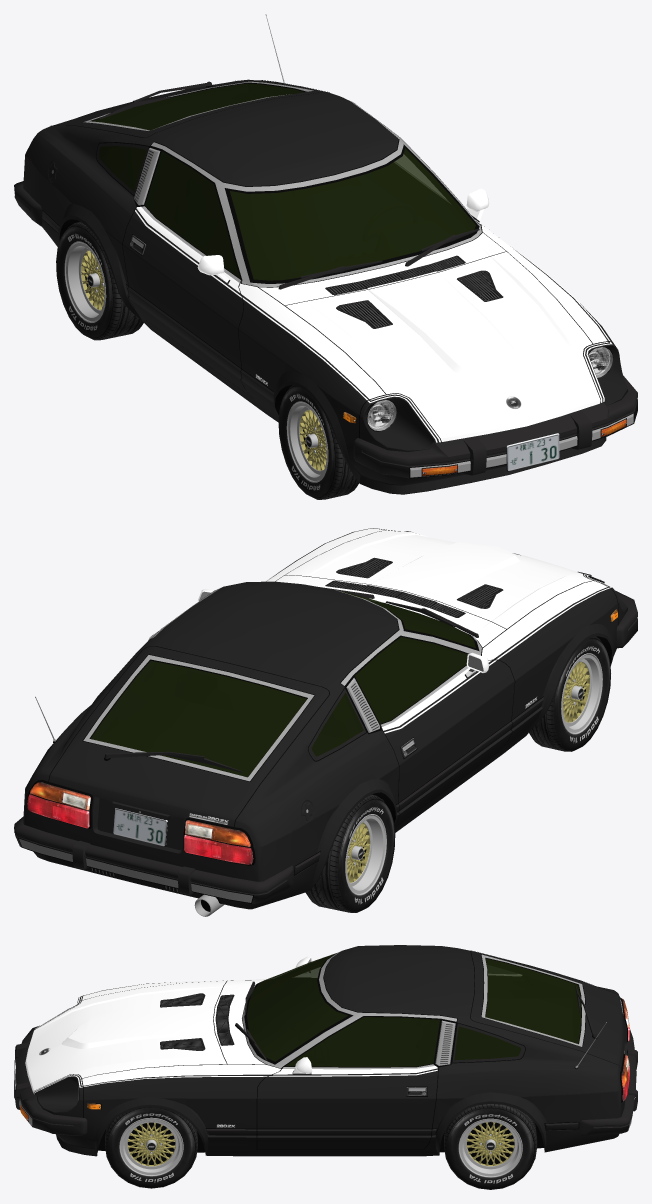
The model's file is sk-volvo130.glb.
3 views of the same model, one above another, from view 1: azimuth 30°, elevation 25°; view 2: azimuth 150°, elevation 25°; view 3: azimuth 270°, elevation 25° (orthographic). The views are drawn at different scales.
Visible parts, largest first — view 1: body_bkg_0, body_body_0, body_body2_0, body_window_0, body_tire_0, body_duct_0, body_lens_0, body_number_0, body_glass_0; view 2: body_body_0, body_bkg_0, body_window_0, body_body2_0, body_tire_0, body_lens_0, body_duct_0, body_number_0; view 3: body_body_0, body_bkg_0, body_body2_0, body_window_0, body_tire_0, body_duct_0, body_lens_0.
Part boxes in pixels (<box>): body_bkg_0: <box>14,14,637,482</box>; body_body_0: <box>23,79,627,494</box>; body_body2_0: <box>135,161,612,442</box>; body_window_0: <box>92,83,475,280</box>; body_tire_0: <box>56,222,358,499</box>; body_duct_0: <box>327,256,500,327</box>; body_lens_0: <box>343,347,626,475</box>; body_number_0: <box>506,433,559,471</box>; body_glass_0: <box>368,347,613,430</box>; body_body_0: <box>23,528,627,909</box>; body_bkg_0: <box>14,528,637,916</box>; body_window_0: <box>91,591,475,777</box>; body_body2_0: <box>197,528,611,733</box>; body_tire_0: <box>305,636,610,912</box>; body_lens_0: <box>27,609,617,864</box>; body_duct_0: <box>327,559,500,617</box>; body_number_0: <box>113,808,167,846</box>; body_body_0: <box>34,945,627,1156</box>; body_bkg_0: <box>15,950,637,1177</box>; body_body2_0: <box>25,956,437,1094</box>; body_window_0: <box>247,953,581,1066</box>; body_tire_0: <box>105,1104,537,1189</box>; body_duct_0: <box>162,994,232,1050</box>; body_lens_0: <box>20,998,629,1120</box>.
Size of the model in its own units: 1.22 by 0.8623 by 2.94.
Materials: 17 (12 with a texture image).
